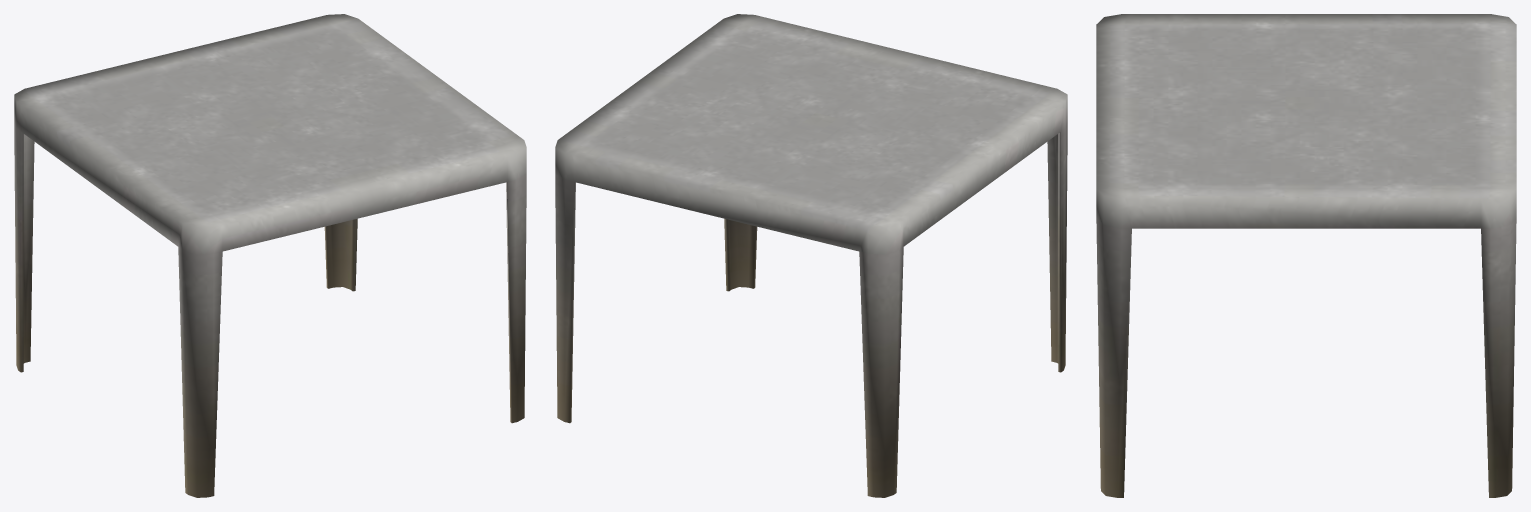
File: plastic_table.glb
3 renders of one model, left to right at view 1: azimuth 30°, elevation 25°; view 2: azimuth 150°, elevation 25°; view 3: azimuth 270°, elevation 25°, orthographic. The views are drawn at different scales.
Parts seen in each view (by area): view 1: plastic_table; view 2: plastic_table; view 3: plastic_table.
Part boxes in pixels (x1,y1,x2,y2): plastic_table: (14,14,526,497); plastic_table: (555,14,1067,497); plastic_table: (1096,14,1516,497).
Size of the model in its own units: 0.9768 by 0.74 by 0.937.
Materials: 1 (1 with a texture image).
